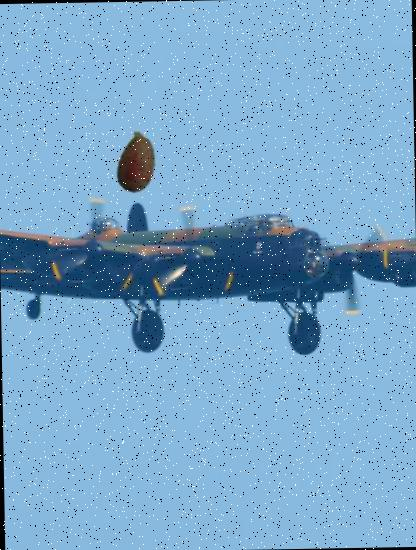Potato: (106, 131, 170, 194)
